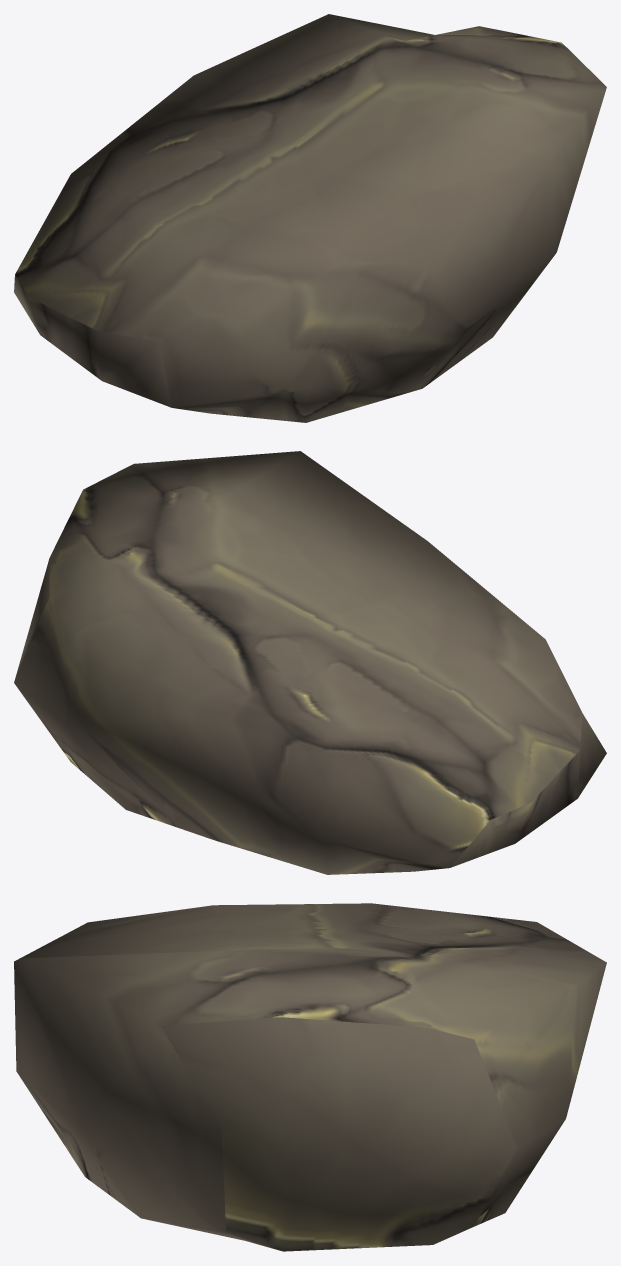
File: Prop_Rock_01.FBX
The picture shows the model from 3 angles, top to bottom: view 1: azimuth 30°, elevation 25°; view 2: azimuth 150°, elevation 25°; view 3: azimuth 270°, elevation 25°; orthographic projection. The views are drawn at different scales.
Visible parts, largest first — view 1: Prop_Rock_01; view 2: Prop_Rock_01; view 3: Prop_Rock_01.
Boxes of the visible parts, bbox=[...] form: Prop_Rock_01: bbox=[14, 14, 606, 422]; Prop_Rock_01: bbox=[14, 451, 606, 874]; Prop_Rock_01: bbox=[14, 903, 606, 1251].
Bounding box in the file's own units: 2.19 × 1.08 × 1.83.
